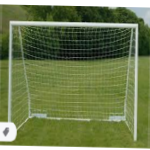goals: (7, 19, 139, 143)
